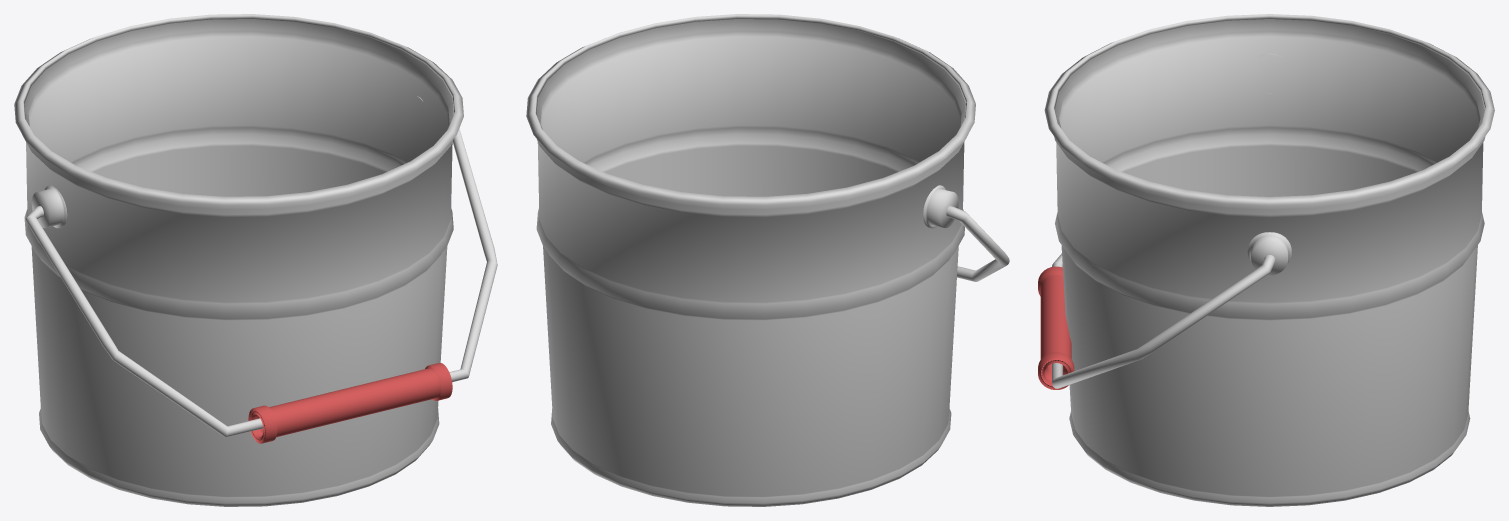
Rendered from Bucket.fbx.
3 views of the same model, side by side, from view 1: azimuth 30°, elevation 25°; view 2: azimuth 150°, elevation 25°; view 3: azimuth 270°, elevation 25° (orthographic).
Parts seen in each view (by area): view 1: Cylinder.017, Cylinder.016; view 2: Cylinder.017, Cylinder.016; view 3: Cylinder.017, Cylinder.016.
Boxes of the visible parts, x1,y1,x2,y2 form: Cylinder.017: [14, 14, 463, 506]; Cylinder.016: [25, 128, 497, 443]; Cylinder.017: [526, 14, 975, 506]; Cylinder.016: [946, 206, 1009, 281]; Cylinder.017: [1044, 14, 1494, 506]; Cylinder.016: [1038, 253, 1275, 389].
Size of the model in its own units: 551 by 395 by 509.
